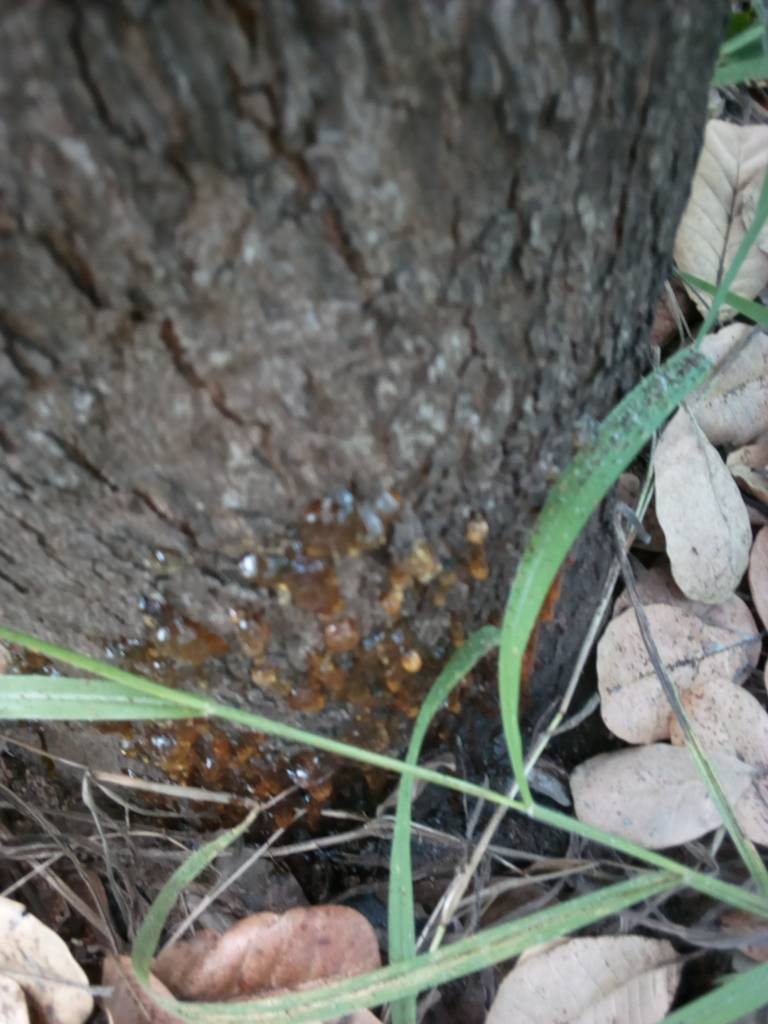Gommose: (118, 505, 510, 816)
